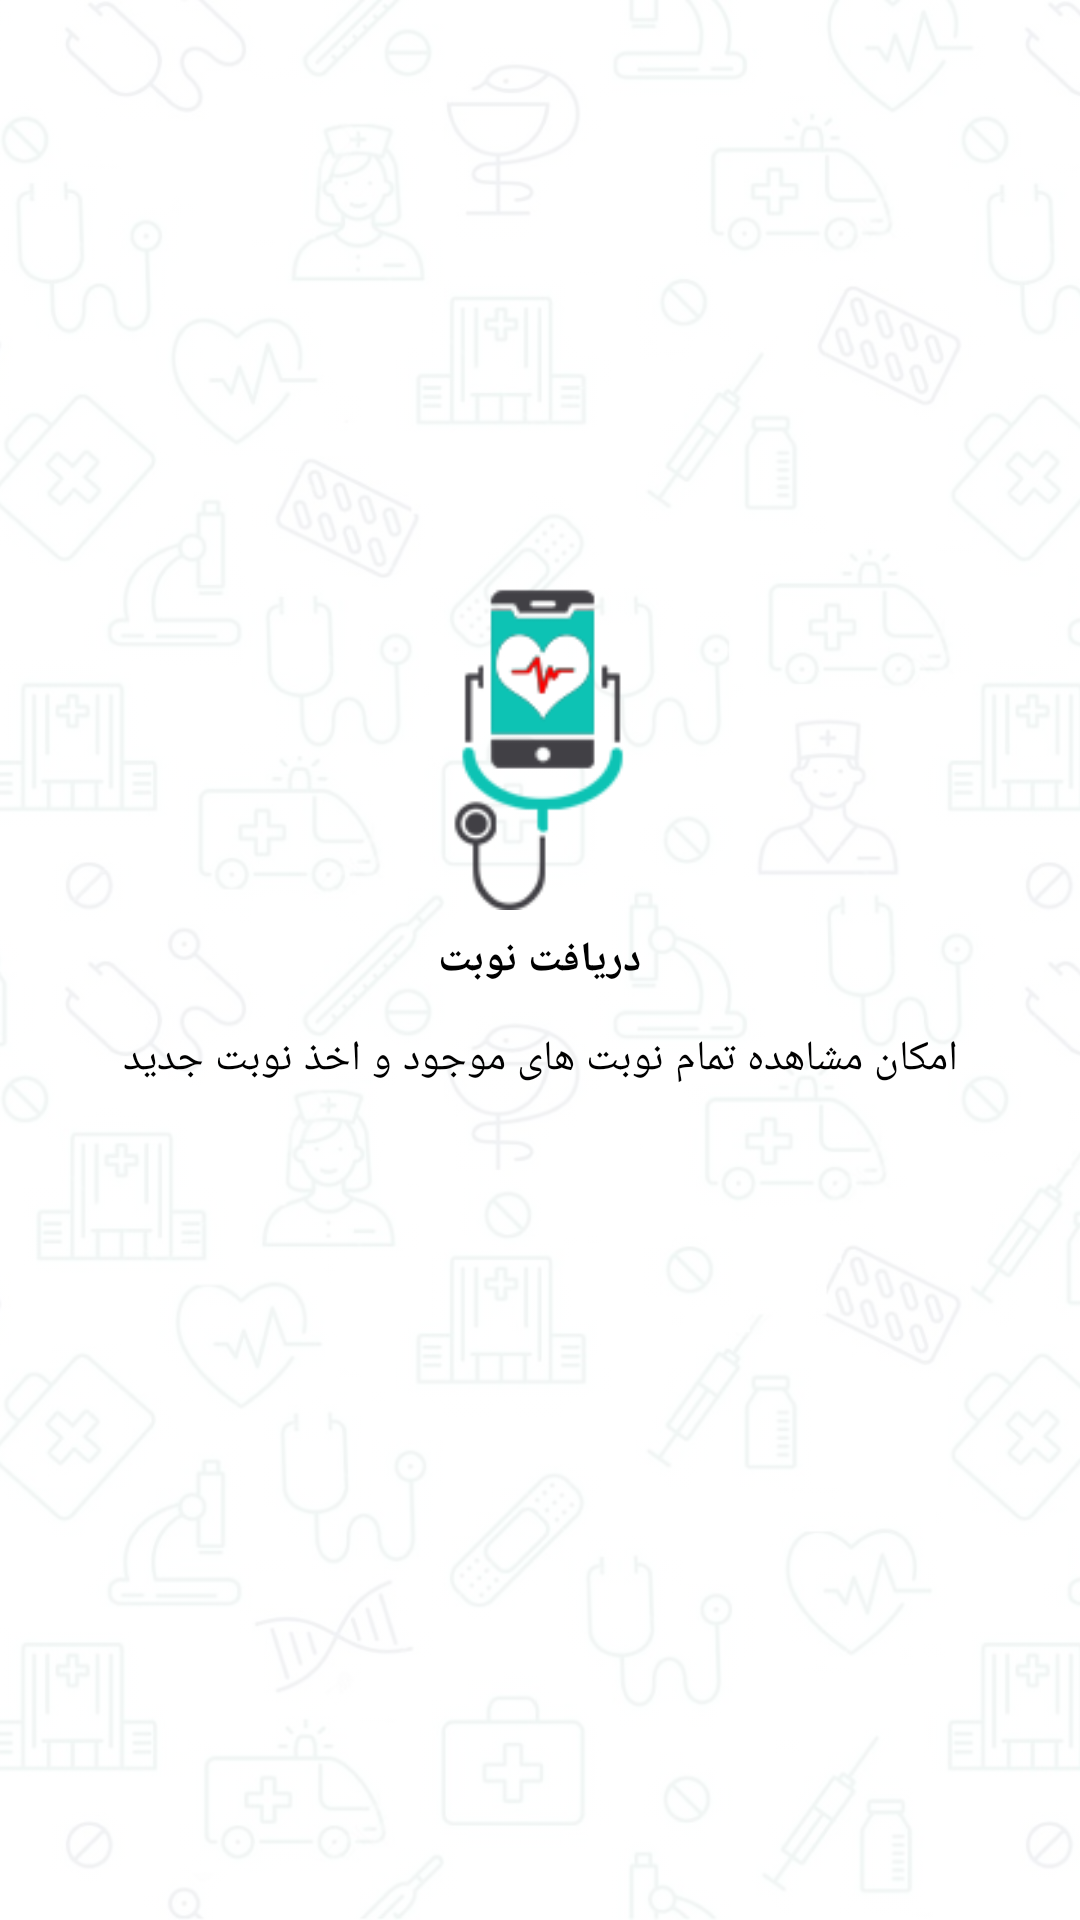

Screen size 1080x1920. Icon name, then its center in pixels as (x=x, y=y):
app: (x=539, y=749)
